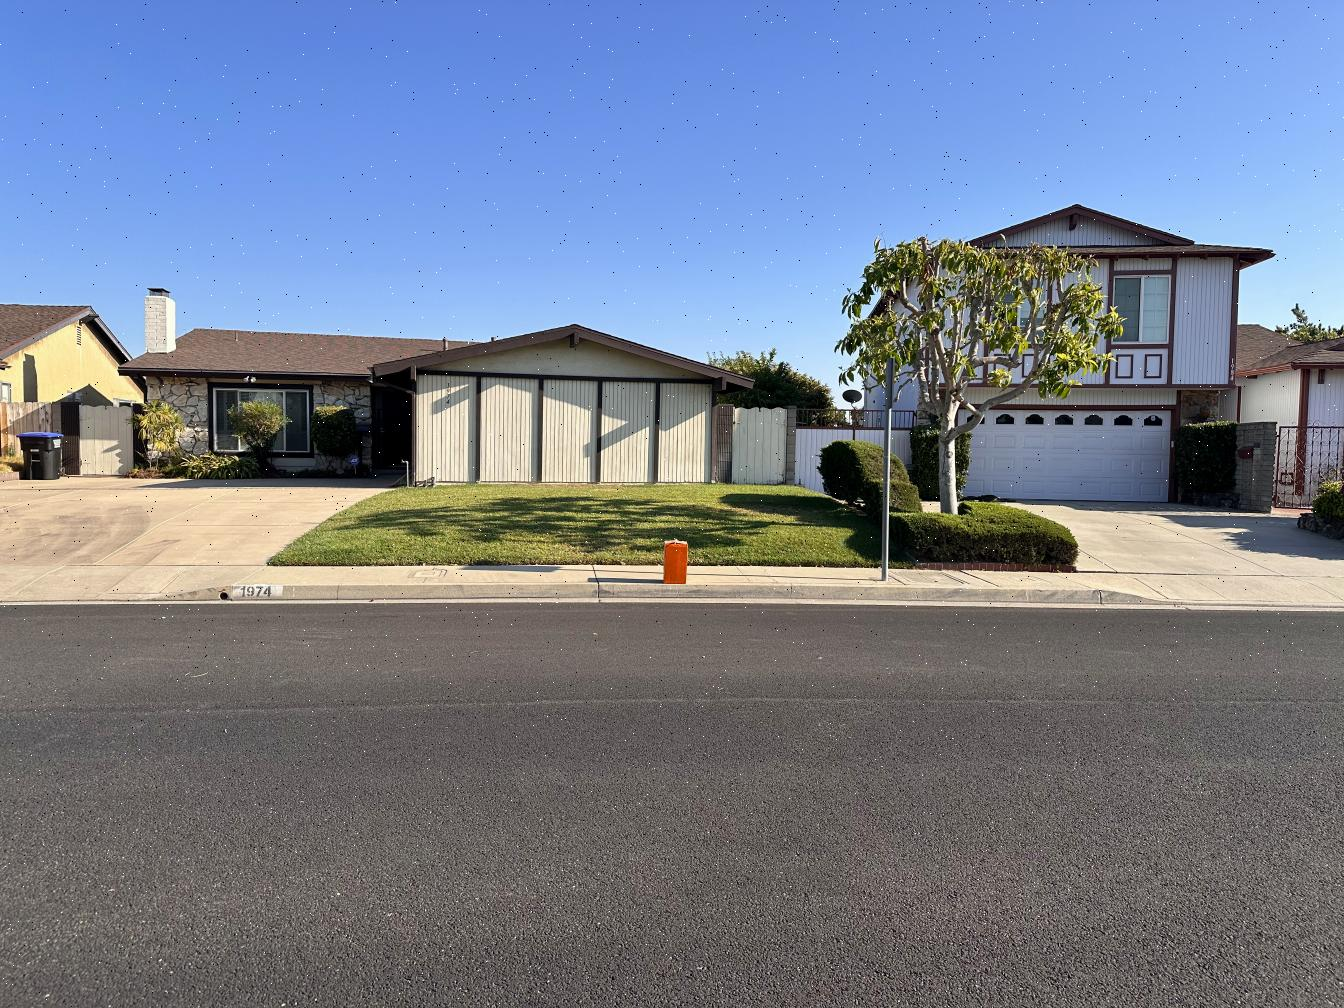curbs-laRr: (214, 578, 667, 604), (696, 581, 1133, 606)
orange box: (658, 540, 690, 583)
